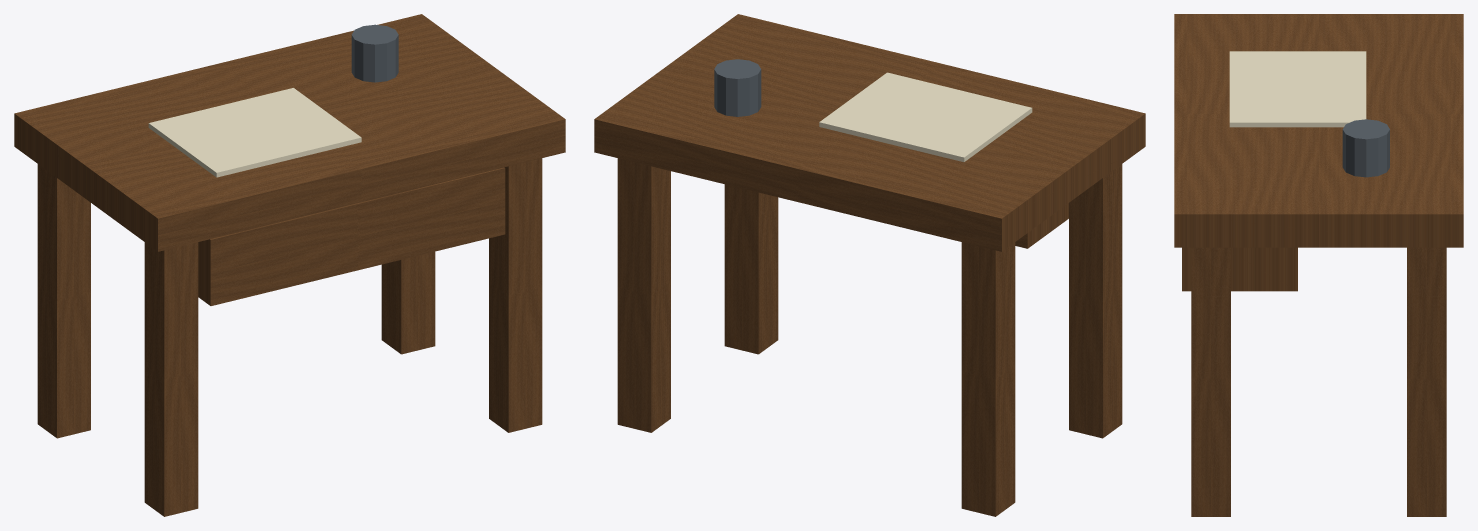
Rendered from writing-desk.glb.
3 renders of one model, left to right at view 1: azimuth 30°, elevation 25°; view 2: azimuth 150°, elevation 25°; view 3: azimuth 270°, elevation 25°, orthographic.
Parts seen in each view (by area): view 1: Desk top, Desk drawer, Leg, Leg.001, Leg.002, Parchment, Leg.003, Ink pot; view 2: Desk top, Leg.001, Leg.003, Leg, Parchment, Leg.002, Ink pot, Desk drawer; view 3: Desk top, Leg.002, Leg.003, Parchment, Desk drawer, Ink pot.
Boxes of the visible parts, <box> form: Desk top: <box>14,14,565,251</box>; Desk drawer: <box>198,167,505,305</box>; Leg: <box>144,242,198,516</box>; Leg.001: <box>37,164,90,438</box>; Leg.002: <box>489,158,542,432</box>; Parchment: <box>148,88,361,177</box>; Leg.003: <box>381,251,435,354</box>; Ink pot: <box>351,24,398,82</box>; Desk top: <box>594,14,1145,251</box>; Leg.001: <box>961,242,1015,516</box>; Leg.003: <box>617,158,670,432</box>; Leg: <box>1069,164,1122,438</box>; Parchment: <box>819,72,1032,161</box>; Leg.002: <box>724,184,778,354</box>; Ink pot: <box>714,59,761,116</box>; Desk drawer: <box>1015,203,1068,248</box>; Desk top: <box>1174,14,1463,247</box>; Leg.002: <box>1191,247,1230,516</box>; Leg.003: <box>1407,247,1446,516</box>; Parchment: <box>1229,51,1366,127</box>; Desk drawer: <box>1182,247,1297,291</box>; Ink pot: <box>1342,119,1389,177</box>.
Bounding box in the file's own units: 0.9 × 0.73 × 0.55.
Materials: 3 (1 with a texture image).
